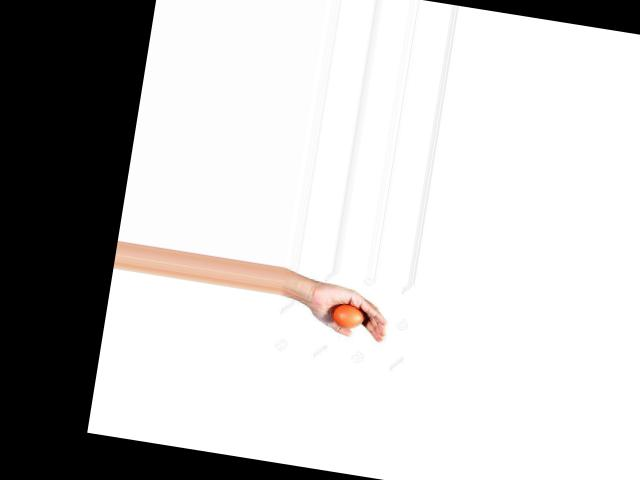egg: (331, 302, 365, 330)
